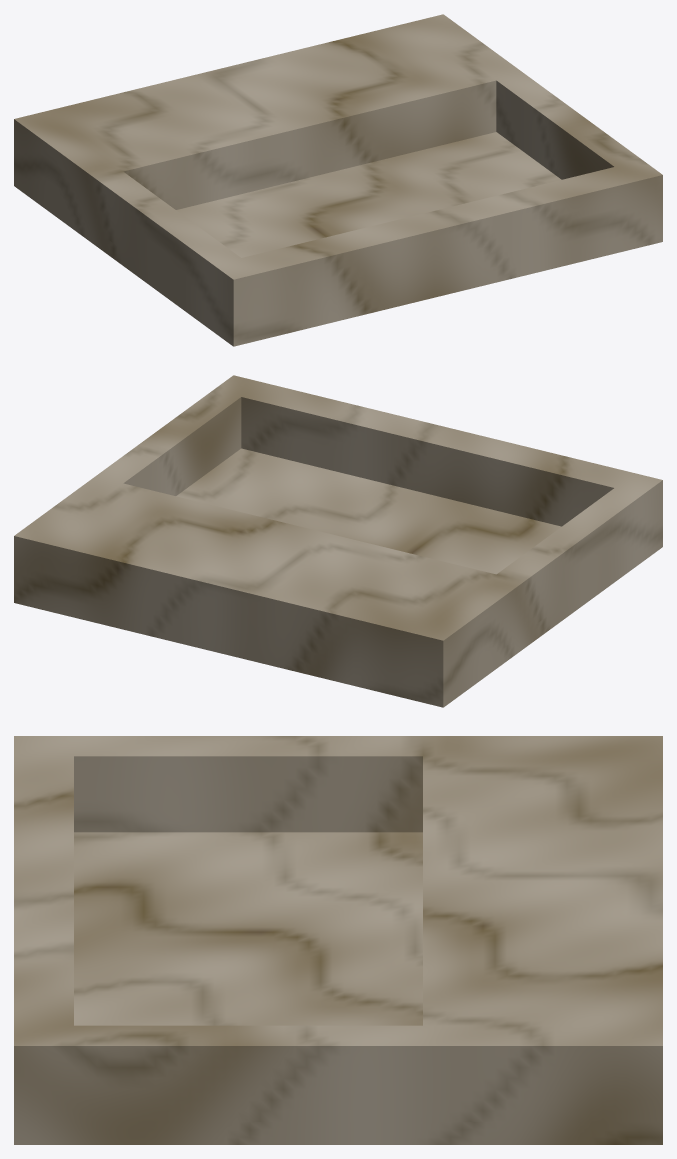
Rendered from vanity-stone-v3.glb.
3 views of the same model, one above another, from view 1: azimuth 30°, elevation 25°; view 2: azimuth 150°, elevation 25°; view 3: azimuth 270°, elevation 25° (orthographic). The views are drawn at different scales.
Size of the model in its own units: 550 by 82 by 487.
